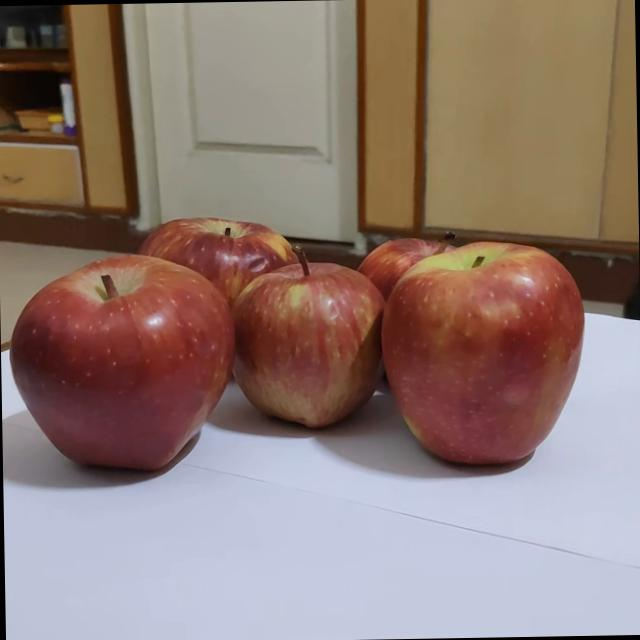apple: (5, 251, 242, 503), (96, 202, 294, 392), (393, 240, 582, 437), (230, 256, 399, 426), (330, 220, 474, 359)
